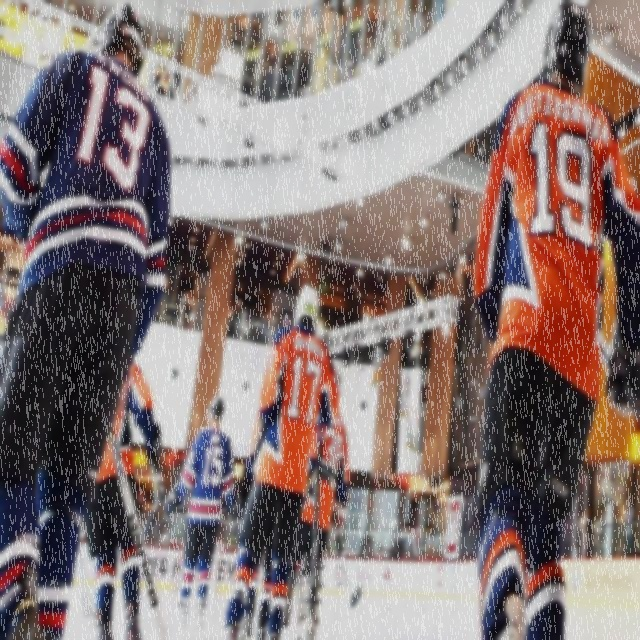pessoa: (0, 0, 175, 639), (470, 0, 640, 639), (219, 278, 341, 640), (81, 359, 162, 639), (280, 366, 350, 638), (161, 392, 236, 638), (237, 395, 270, 525), (238, 540, 275, 640), (622, 492, 634, 568), (251, 306, 269, 354), (388, 532, 414, 562), (226, 303, 244, 342), (358, 528, 374, 562), (409, 505, 417, 532)
